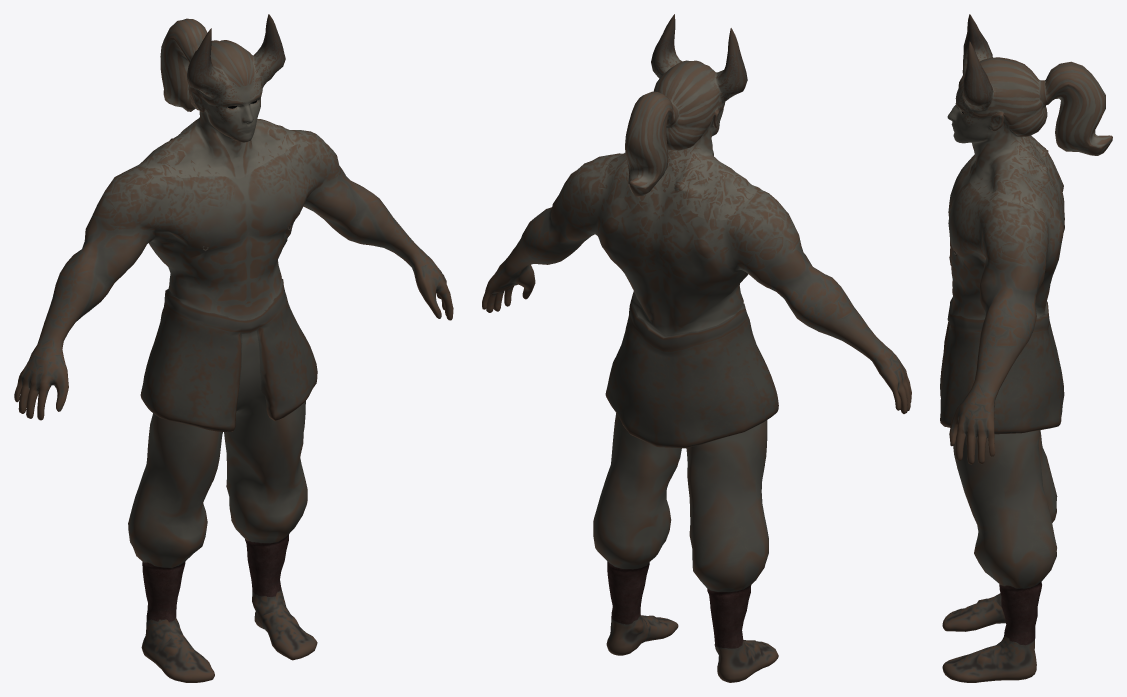
File: CharacterModelMan_LOD_0.fbx
3 views of the same model, side by side, from view 1: azimuth 30°, elevation 25°; view 2: azimuth 150°, elevation 25°; view 3: azimuth 270°, elevation 25° (orthographic). The views are drawn at different scales.
Parts seen in each view (by area): view 1: CharacterModelMan_LOD_0; view 2: CharacterModelMan_LOD_0; view 3: CharacterModelMan_LOD_0.
Part boxes in pixels (x1,y1,x2,y2): CharacterModelMan_LOD_0: [14, 14, 453, 682]; CharacterModelMan_LOD_0: [482, 14, 911, 682]; CharacterModelMan_LOD_0: [940, 14, 1112, 682].
Size of the model in its own units: 140 by 200 by 50.37.
